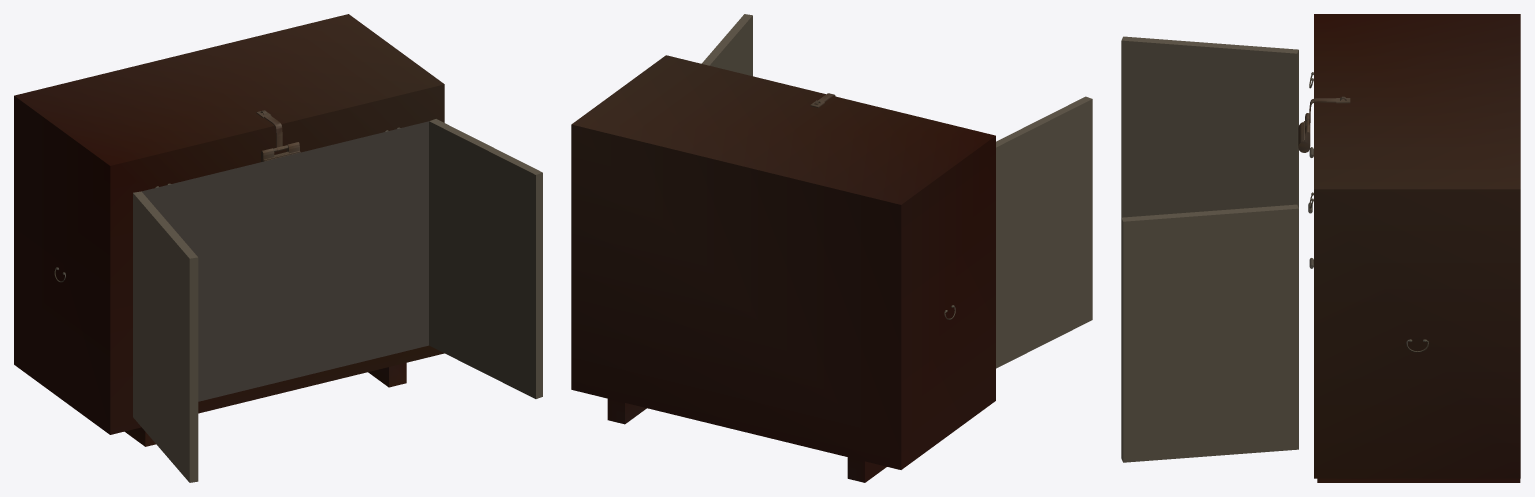
File: opened.glb
3 renders of one model, left to right at view 1: azimuth 30°, elevation 25°; view 2: azimuth 150°, elevation 25°; view 3: azimuth 270°, elevation 25°, orthographic. The views are drawn at different scales.
Visible parts, largest first — view 1: SM_Cabinet01b_M_Cabinet01b_0, 속면, 문짝 (×2); view 2: SM_Cabinet01b_M_Cabinet01b_0, 문짝 (×2); view 3: SM_Cabinet01b_M_Cabinet01b_0, 문짝 (×2).
Part boxes in pixels (left/top/right/bottom): SM_Cabinet01b_M_Cabinet01b_0: left=14, top=14, right=444, bottom=446; 속면: left=141, top=121, right=428, bottom=401; 문짝 (×2): left=133, top=119, right=542, bottom=482; SM_Cabinet01b_M_Cabinet01b_0: left=571, top=55, right=995, bottom=482; 문짝 (×2): left=701, top=14, right=1092, bottom=368; SM_Cabinet01b_M_Cabinet01b_0: left=1298, top=14, right=1520, bottom=482; 문짝 (×2): left=1121, top=36, right=1298, bottom=462.
Bounding box in the file's own units: 1.34 × 1.07 × 1.22.
